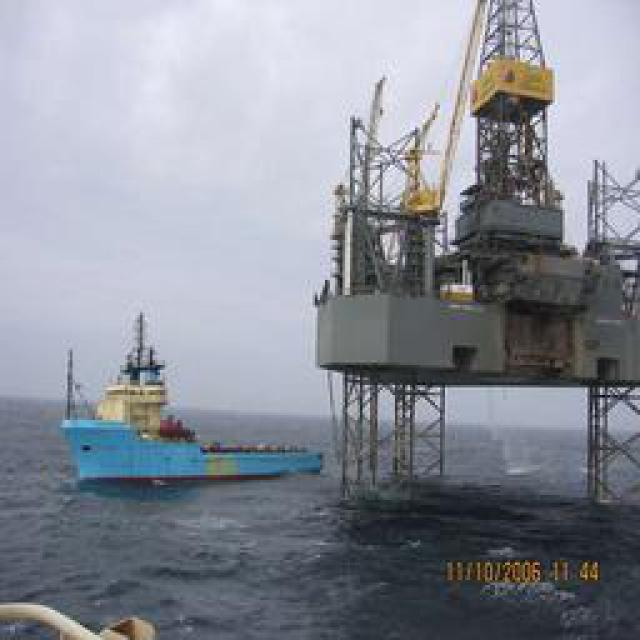Ship: (57, 314, 317, 489)
